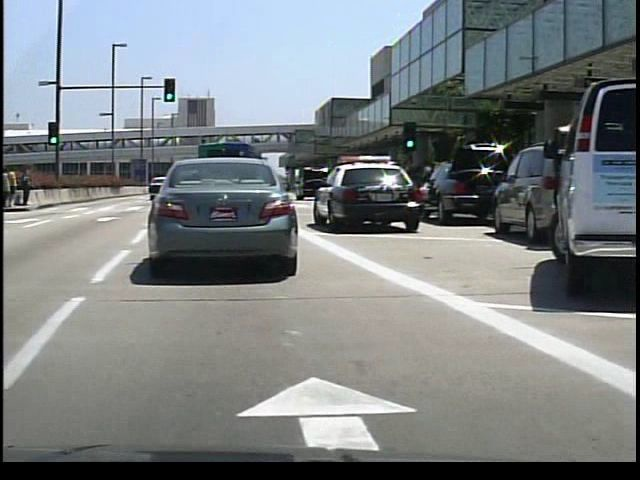person: (18, 165, 33, 208), (7, 162, 17, 210)
